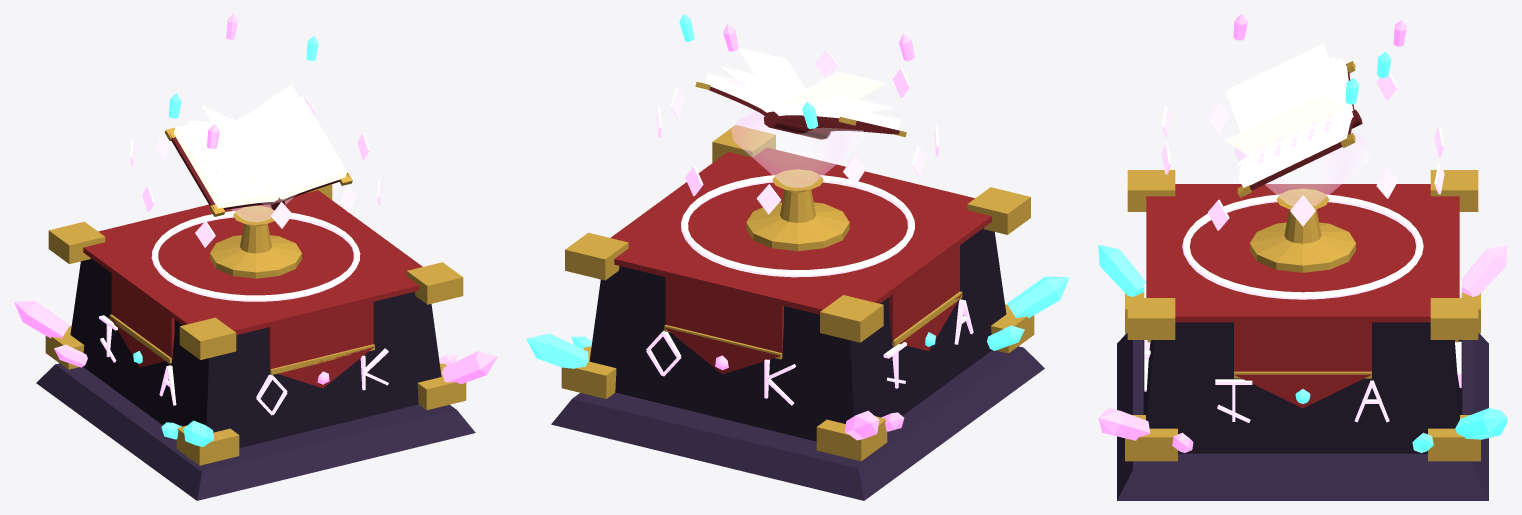
Rendered from EnchantingAltar_Roblox.fbx.
3 renders of one model, left to right at view 1: azimuth 30°, elevation 25°; view 2: azimuth 150°, elevation 25°; view 3: azimuth 270°, elevation 25°, orthographic. The views are drawn at different scales.
Parts seen in each view (by area): view 1: AltarCloth, Obsidian, ObsidianTrim, GoldTrim, BookPages, AmethystCrystal, GlowRing, RuneRing, BookRunes, OreCrystal, MagicBeam, BookCover; view 2: AltarCloth, Obsidian, ObsidianTrim, GoldTrim, BookPages, MagicBeam, OreCrystal, GlowRing, RuneRing, BookCover, BookRunes, AmethystCrystal; view 3: AltarCloth, Obsidian, ObsidianTrim, GoldTrim, BookPages, GlowRing, OreCrystal, AmethystCrystal, MagicBeam, RuneRing, BookRunes, BookCover.
Part boxes in pixels (x1=…): AltarCloth: x1=83, y1=190, x2=422, y2=388; Obsidian: x1=70, y1=258, x2=441, y2=447; ObsidianTrim: x1=36, y1=363, x2=475, y2=500; GoldTrim: x1=45, y1=103, x2=466, y2=465; BookPages: x1=173, y1=84, x2=347, y2=208; AmethystCrystal: x1=14, y1=14, x2=497, y2=384; GlowRing: x1=151, y1=211, x2=360, y2=301; RuneRing: x1=130, y1=97, x2=381, y2=247; BookRunes: x1=99, y1=146, x2=388, y2=415; OreCrystal: x1=133, y1=36, x2=318, y2=446; MagicBeam: x1=231, y1=187, x2=304, y2=221; BookCover: x1=169, y1=133, x2=348, y2=210; AltarCloth: x1=610, y1=147, x2=991, y2=374; Obsidian: x1=589, y1=228, x2=1006, y2=441; ObsidianTrim: x1=551, y1=346, x2=1044, y2=500; GoldTrim: x1=561, y1=82, x2=1034, y2=461; BookPages: x1=705, y1=47, x2=900, y2=129; MagicBeam: x1=731, y1=111, x2=864, y2=187; OreCrystal: x1=526, y1=14, x2=1069, y2=368; GlowRing: x1=681, y1=175, x2=914, y2=277; RuneRing: x1=656, y1=49, x2=939, y2=214; BookCover: x1=709, y1=86, x2=899, y2=139; BookRunes: x1=646, y1=80, x2=973, y2=405; AmethystCrystal: x1=715, y1=24, x2=914, y2=440; AltarCloth: x1=1146, y1=184, x2=1459, y2=408; Obsidian: x1=1143, y1=322, x2=1462, y2=453; ObsidianTrim: x1=1117, y1=333, x2=1488, y2=500; GoldTrim: x1=1125, y1=61, x2=1480, y2=461; BookPages: x1=1225, y1=43, x2=1353, y2=187; GlowRing: x1=1182, y1=194, x2=1423, y2=299; OreCrystal: x1=1098, y1=52, x2=1507, y2=452; AmethystCrystal: x1=1098, y1=14, x2=1507, y2=452; MagicBeam: x1=1234, y1=131, x2=1371, y2=205; RuneRing: x1=1161, y1=72, x2=1444, y2=230; BookRunes: x1=1144, y1=114, x2=1461, y2=422; BookCover: x1=1244, y1=64, x2=1362, y2=190.
Bounding box in the file's own units: 770 × 859 × 770.
